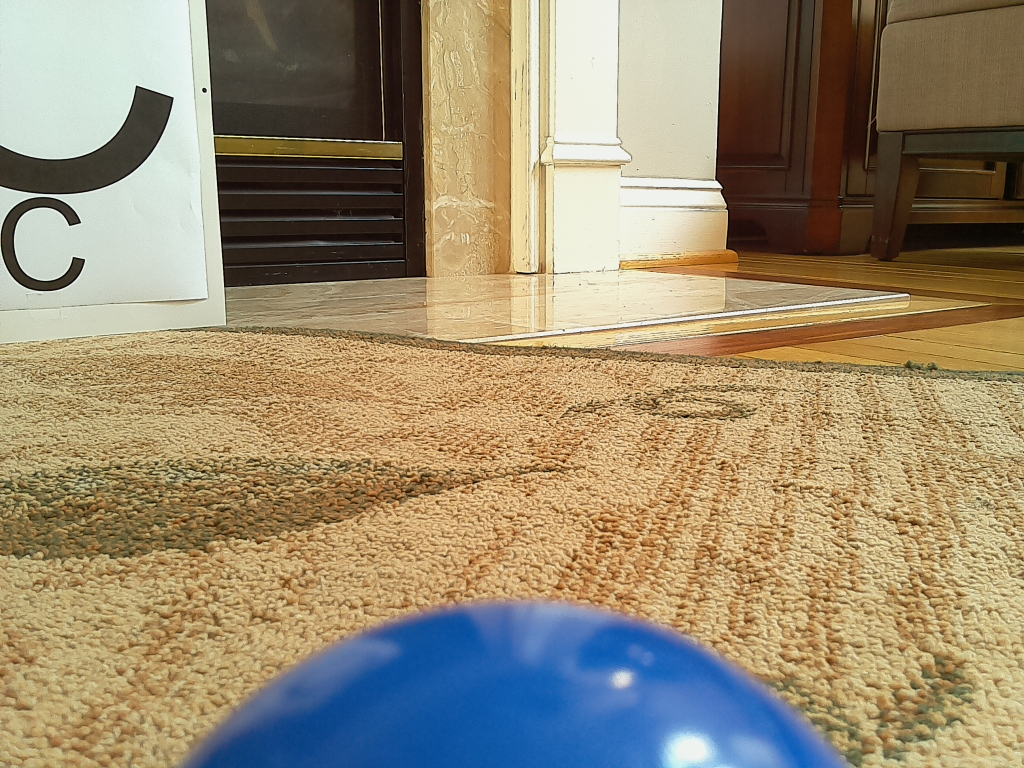letter: (1, 198, 84, 291)
